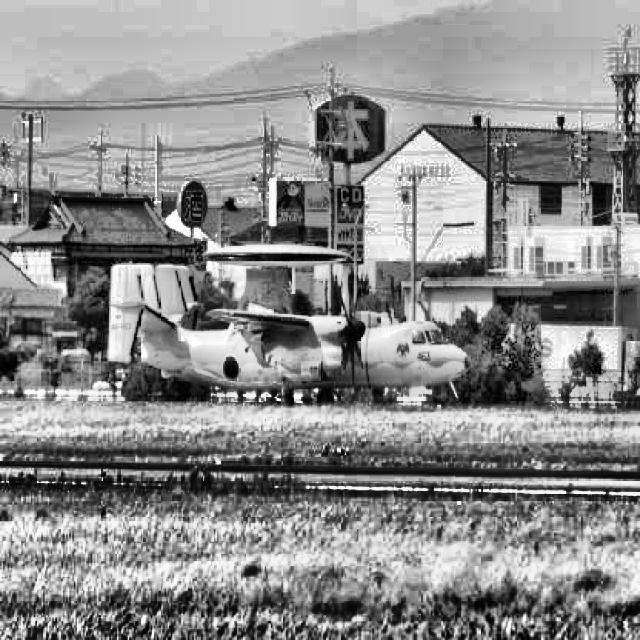E2: (107, 245, 471, 406)
